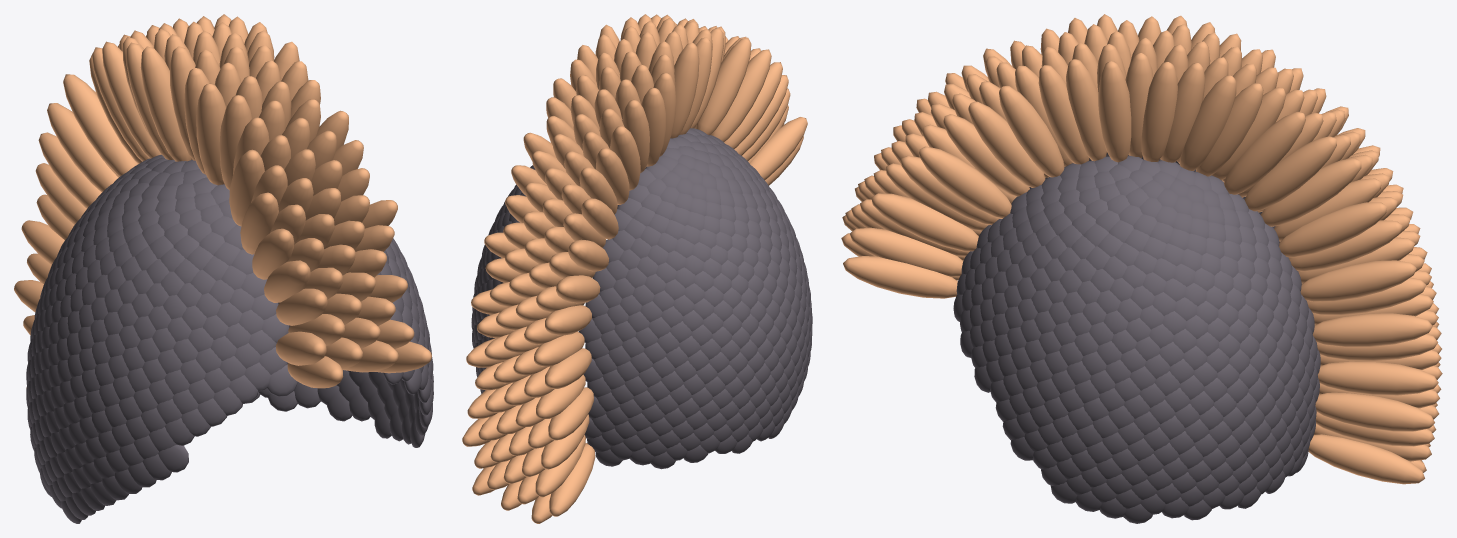
File: mohawk.glb
3 views of the same model, side by side, from view 1: azimuth 30°, elevation 25°; view 2: azimuth 150°, elevation 25°; view 3: azimuth 270°, elevation 25° (orthographic). The views are drawn at different scales.
Visible parts, largest first — view 1: Hair_0203, Hair_0020, Hair_0292, Hair_0018, Hair_0080, Hair_0381, Hair_0026, Hair_0081, Hair_0136, Hair_0007, Hair_0191, Hair_0033 (+65 smaller); view 2: Hair_0081, Hair_0136, Hair_0010, Hair_0390, Hair_0854, Hair_0191, Hair_0033, Hair_0702, Hair_0593, Hair_0080, Hair_0046, Hair_0114 (+82 smaller); view 3: Hair_0695, Hair_0759, Hair_0849, Hair_0586, Hair_0462, Hair_0318, Hair_0453, Hair_0309, Hair_0186, Hair_0174, Hair_0119, Hair_0063 (+29 smaller).
Boxes of the visible parts, box(x1,y1,x2,y2) form: Hair_0203: box(63, 74, 138, 176); Hair_0020: box(140, 46, 191, 161); Hair_0292: box(47, 103, 118, 192); Hair_0018: box(196, 83, 226, 185); Hair_0080: box(102, 41, 161, 158); Hair_0381: box(38, 132, 101, 208); Hair_0026: box(219, 95, 251, 190); Hair_0081: box(229, 149, 264, 226); Hair_0136: box(240, 192, 278, 254); Hair_0007: box(170, 46, 195, 160); Hair_0191: box(252, 228, 294, 279); Hair_0033: box(126, 42, 173, 159); Hair_0081: box(696, 37, 751, 135); Hair_0136: box(711, 49, 771, 141); Hair_0010: box(670, 42, 699, 138); Hair_0390: box(750, 117, 807, 179); Hair_0854: box(549, 443, 595, 516); Hair_0191: box(724, 62, 782, 148); Hair_0033: box(641, 87, 665, 166); Hair_0702: box(548, 387, 593, 440); Hair_0593: box(545, 348, 591, 388); Hair_0080: box(610, 126, 640, 190); Hair_0046: box(622, 99, 649, 172); Hair_0114: box(596, 148, 629, 204); Hair_0695: box(1318, 361, 1438, 395); Hair_0759: box(1315, 392, 1434, 431); Hair_0849: box(1308, 434, 1424, 484); Hair_0586: box(1313, 313, 1432, 347); Hair_0462: box(1300, 260, 1416, 301); Hair_0318: box(1279, 202, 1386, 257); Hair_0453: box(843, 256, 957, 298); Hair_0309: box(871, 193, 978, 251); Hair_0186: box(919, 146, 1011, 218); Hair_0174: box(1244, 136, 1336, 211); Hair_0119: box(1224, 111, 1305, 194); Hair_0063: box(999, 85, 1064, 177).
Bounding box in the file's own units: 1.67 × 2.12 × 2.57.
